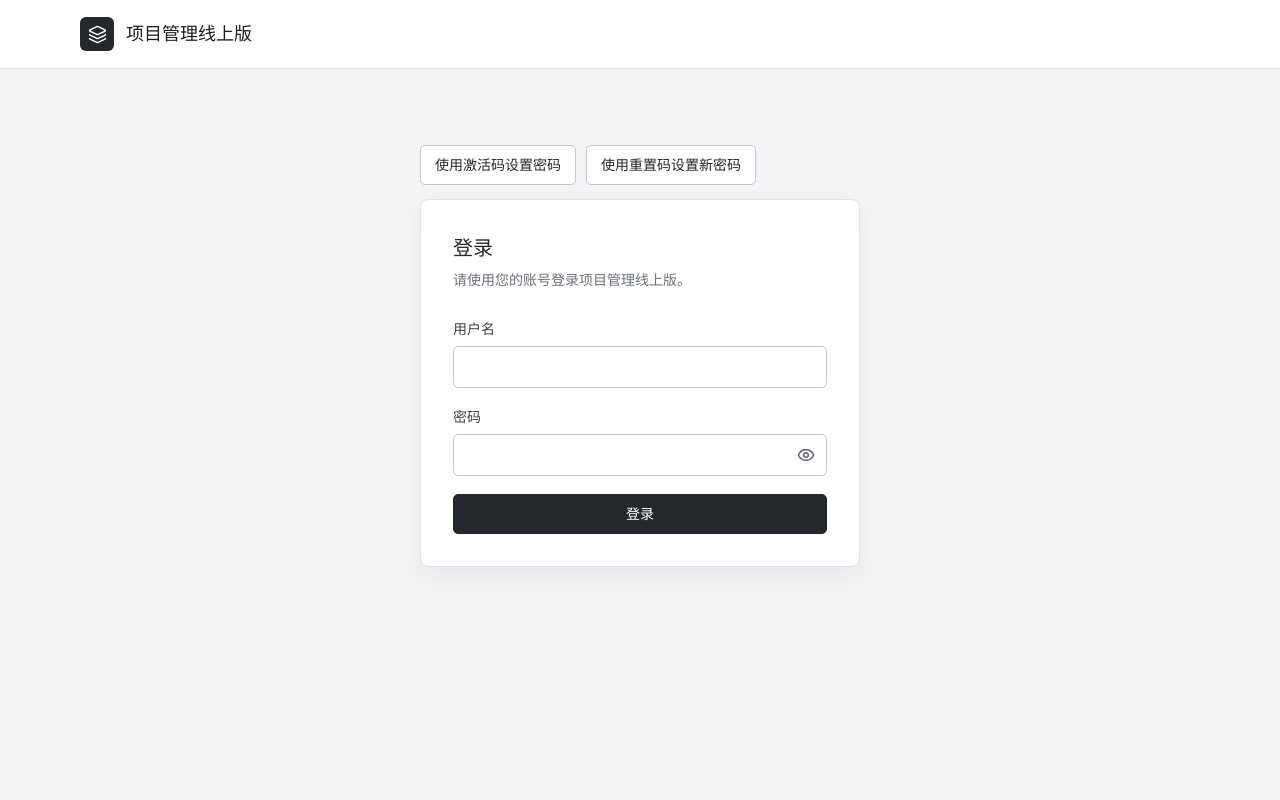
Test: App › switches anonymous entry modes
Expected: the heading "登录" is shown, [453,236,493,260]
What coordinates should you click on to do the following:
click the button "使用激活码设置密码"
I would click on:
 (498, 165)
Its box is [420,145,576,185].
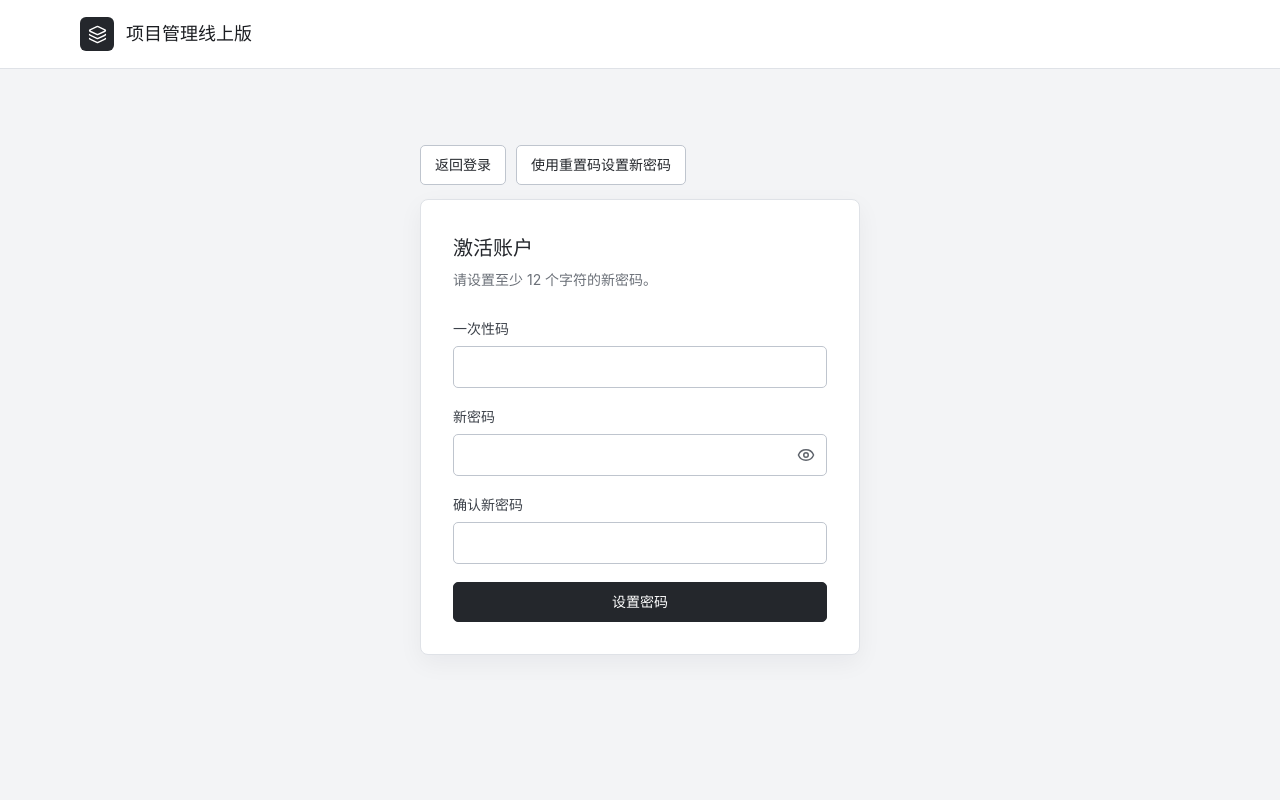
Expected: the heading "激活账户" is shown, [453,236,533,260]
What coordinates should you click on to do the following:
click the button "使用重置码设置新密码"
I would click on:
 (601, 165)
Its box is [516,145,686,185].
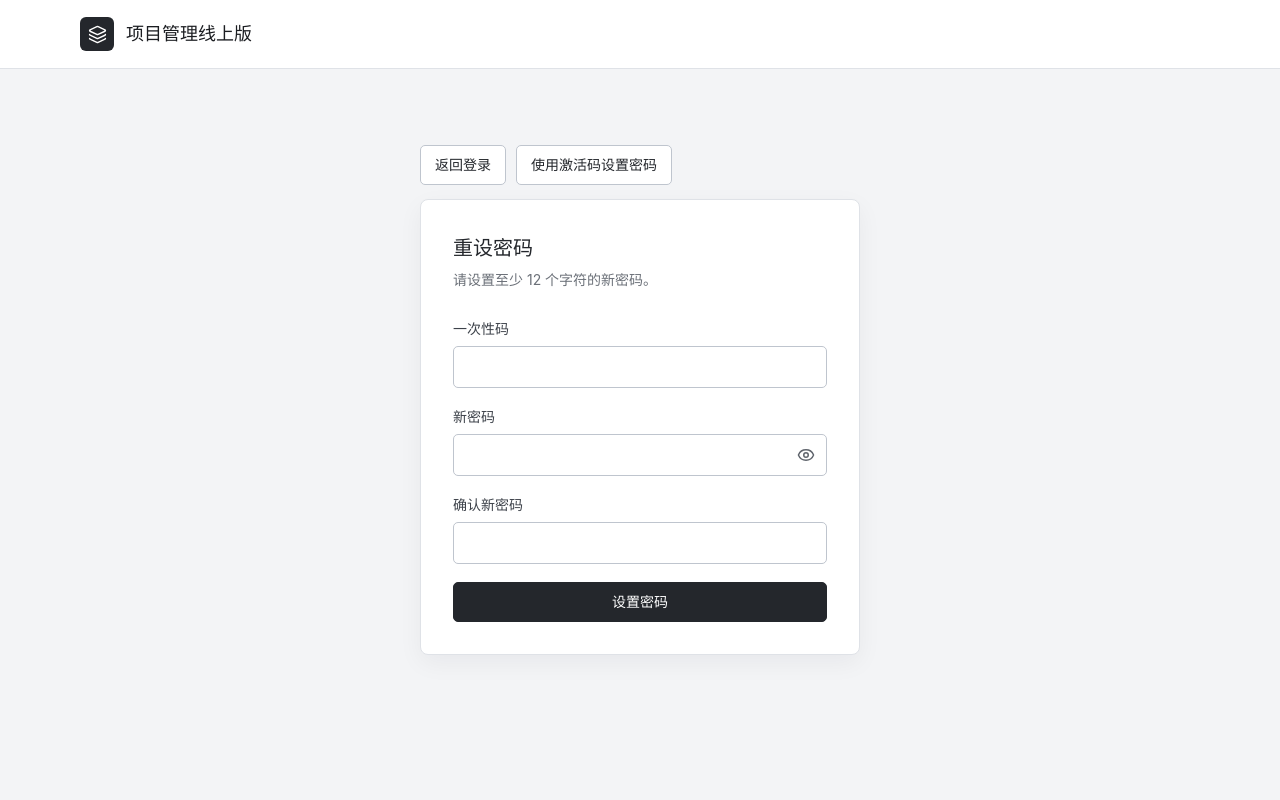
Expected: the heading "重设密码" is shown, [453,236,533,260]
What coordinates should you click on to do the following:
click the button "返回登录"
I would click on:
 (463, 165)
Its box is [420,145,506,185].
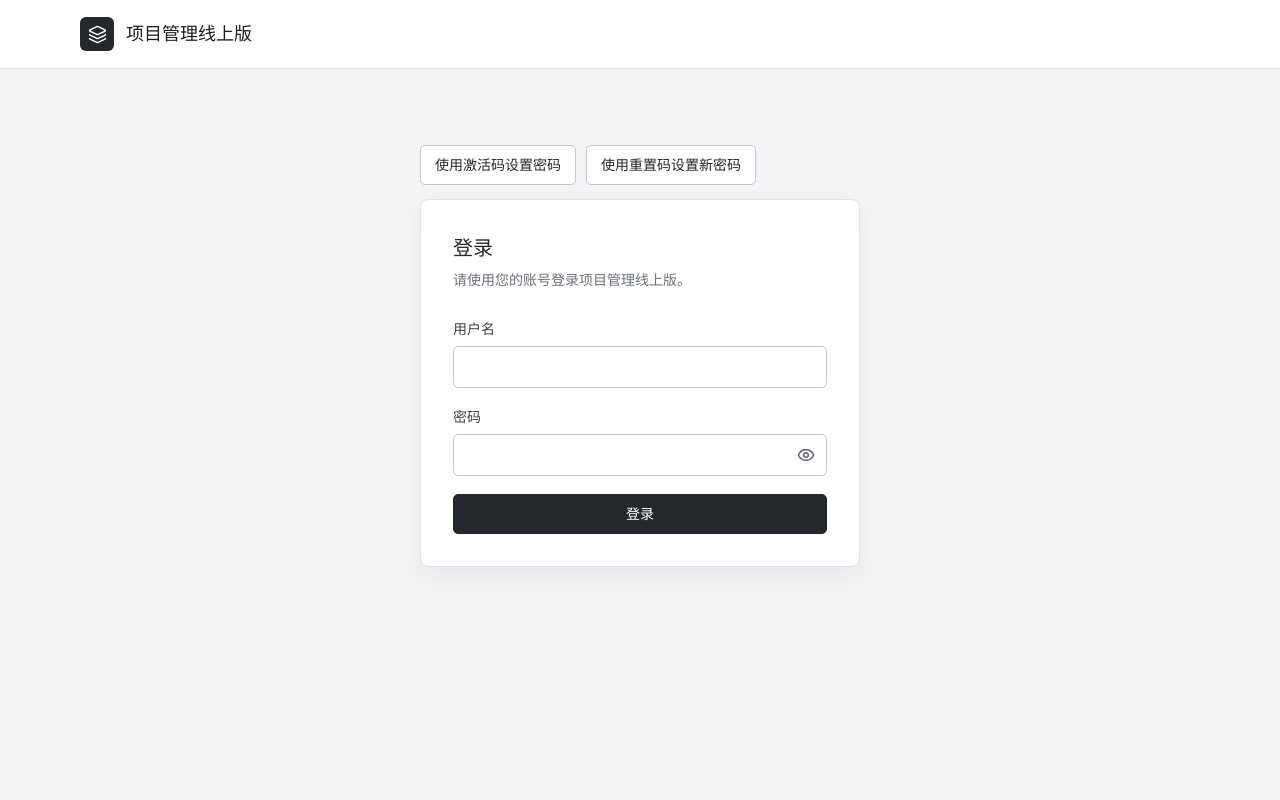
Expected: the heading "登录" is shown, [453,236,493,260]
